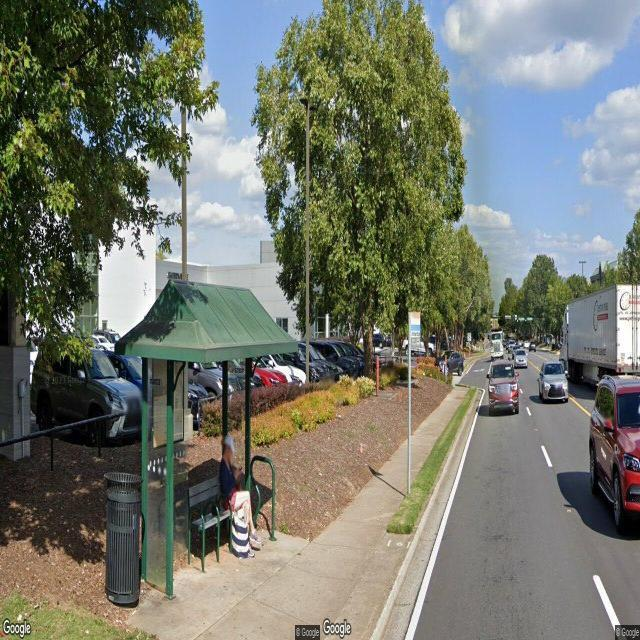seating: (187, 472, 251, 574)
shelter: (117, 274, 300, 600)
trash_can: (104, 477, 142, 605)
